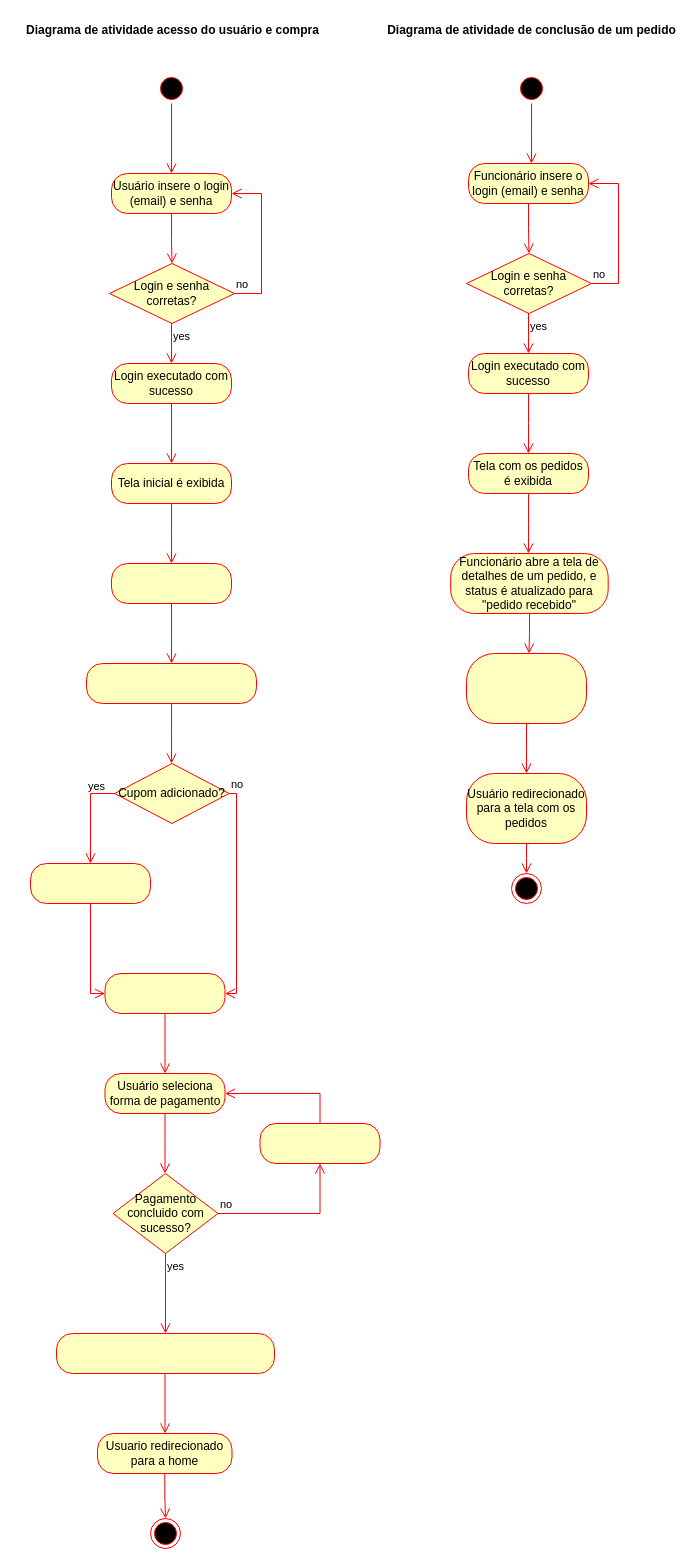
Image size: 696x1566. Some labels were removed from this diagram. Here are the shapes that lost their labels. From the top down, the box of each, then its label:
(110, 562, 232, 604): Usuário abre a tela de fazer pedido
(86, 662, 256, 704): Usuário monta o pedido, com diferentes produto e variações
(466, 652, 586, 724): Funcionário conclui um pedido, status atualizada para "em envio"
(30, 862, 150, 904): Desconto acrescentado ao pedido
(104, 972, 225, 1014): Valor e descrição do pedido são exibidos
(259, 1122, 380, 1164): Exibição do erro de pagamento
(56, 1332, 274, 1374): Exibe que o pagamento foi feito com sucesso e dados sobre pagamento e pedido
